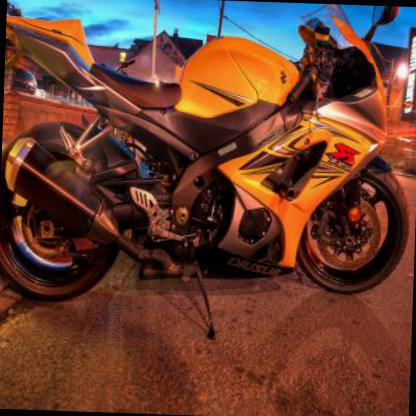motorcycle: (0, 0, 412, 348)
